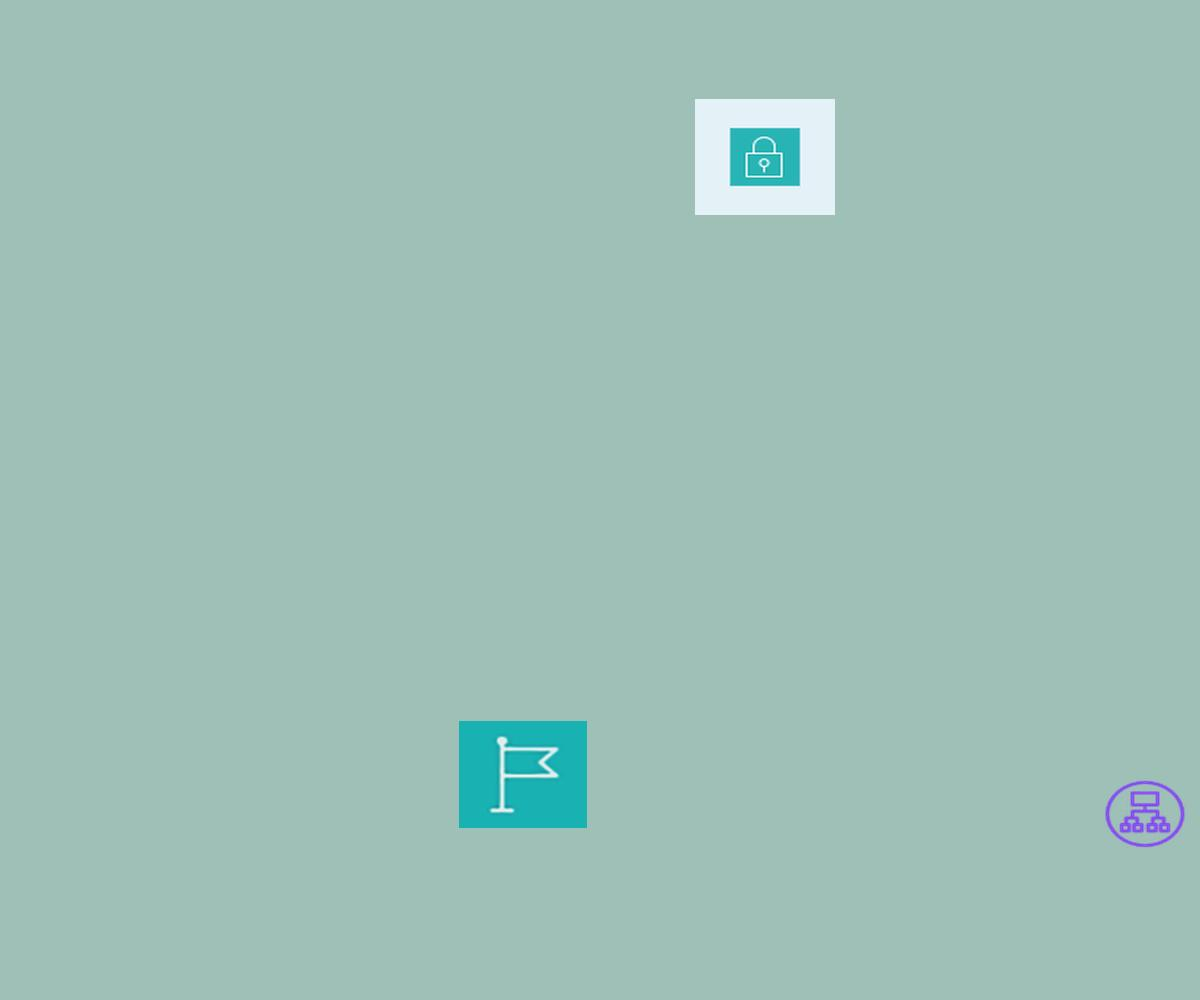AWS-Private-subnet: (695, 99, 835, 215)
AWS-Region: (459, 721, 587, 828)
AWS-Res_Elastic-Load-Balancing_Application-Load-Balancer: (1102, 778, 1188, 850)
